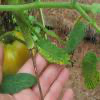Tomato Septoria leaf spot: (36, 38, 72, 67), (0, 72, 37, 94), (62, 22, 85, 56), (82, 52, 99, 90)
